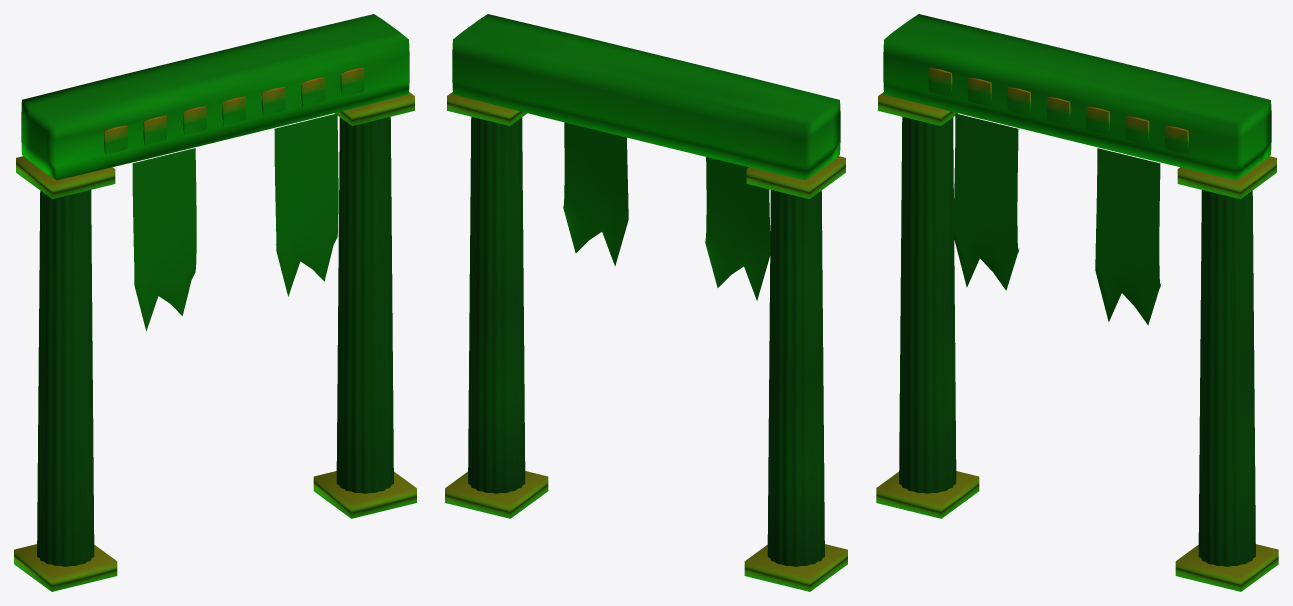
Rendered from iskarra_arch.glb.
3 renders of one model, left to right at view 1: azimuth 30°, elevation 25°; view 2: azimuth 150°, elevation 25°; view 3: azimuth 330°, elevation 25°, orthographic.
Visible parts, largest first — view 1: iskarra_arch; view 2: iskarra_arch; view 3: iskarra_arch.
Part boxes in pixels (<box>): iskarra_arch: <box>14,14,416,591</box>; iskarra_arch: <box>445,14,847,591</box>; iskarra_arch: <box>876,14,1278,591</box>.
Size of what is drawn, in the model's own units: 9.26 by 11.28 by 1.78.
